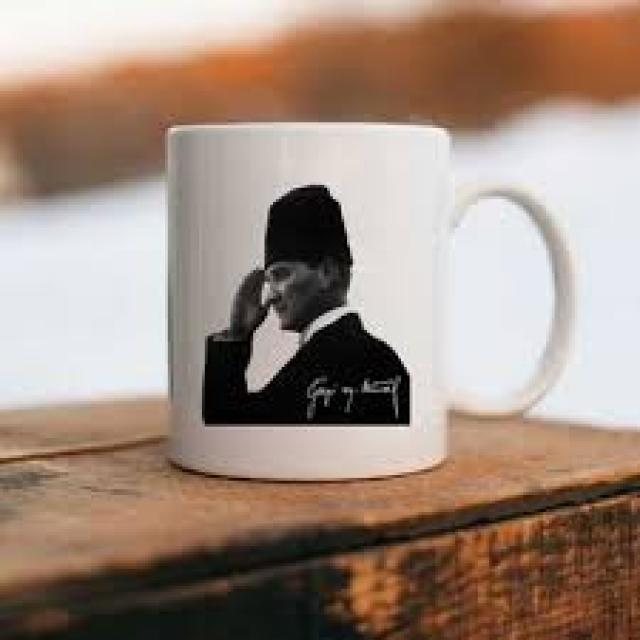taza: (166, 124, 579, 482)
